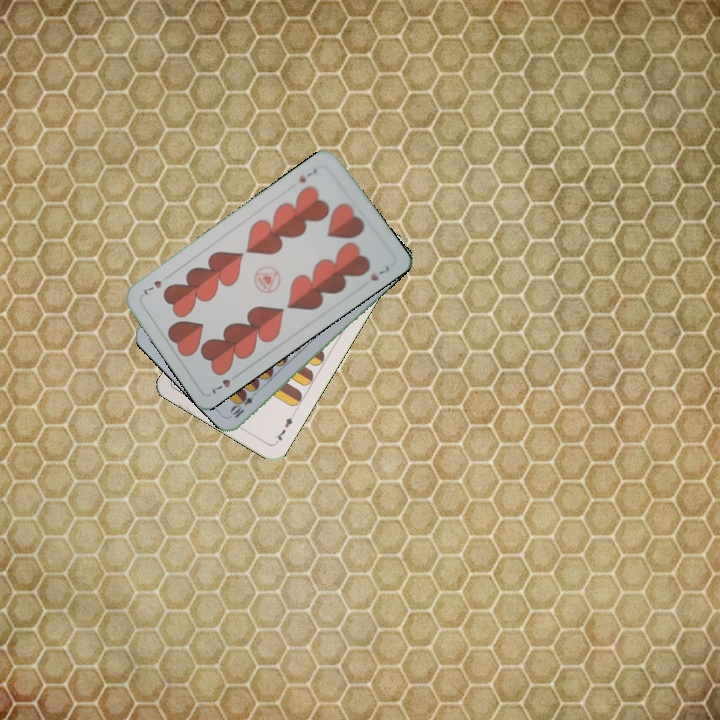E10: (227, 386, 260, 421)
E7: (271, 409, 297, 446)
H7: (208, 369, 242, 397), (294, 164, 320, 185)
